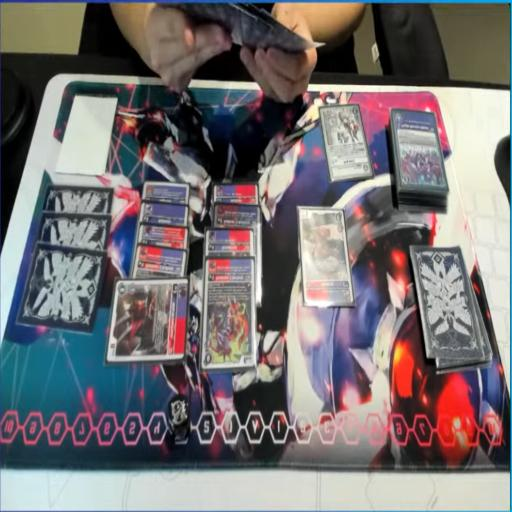card: (105, 276, 192, 365), (200, 256, 256, 376), (298, 202, 350, 310), (390, 106, 444, 204), (317, 102, 369, 186), (131, 246, 186, 283), (206, 227, 256, 260), (211, 180, 258, 209), (138, 227, 188, 254), (215, 204, 260, 234), (136, 204, 190, 223), (145, 184, 189, 204)
